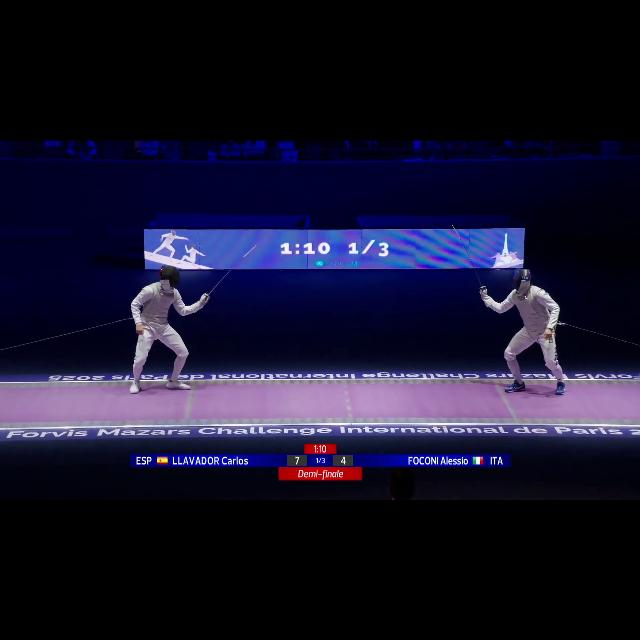blade: (196, 244, 262, 302), (445, 223, 489, 294)
